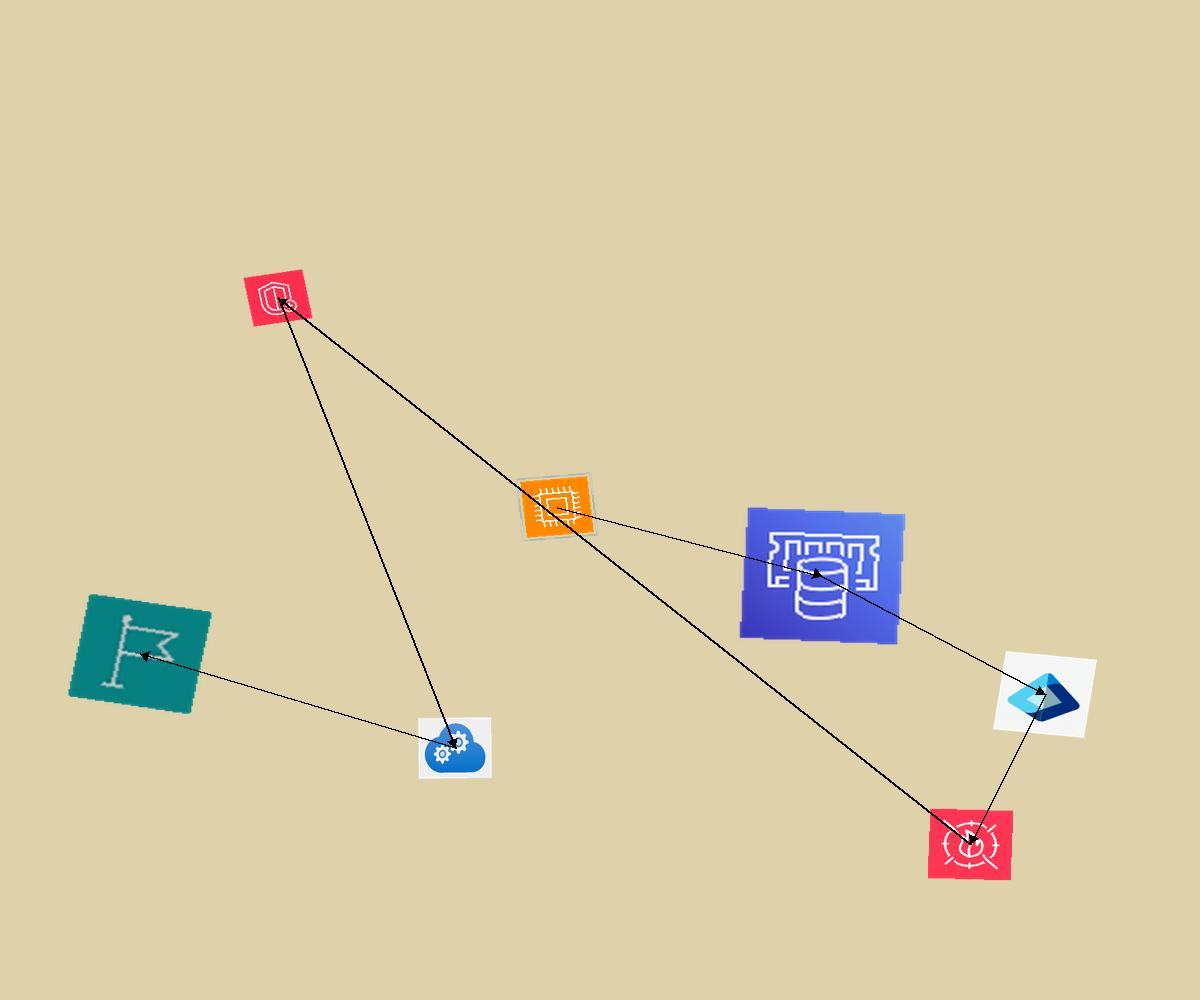AWS-Category_Compute: (515, 472, 599, 542)
AWS-ElastiCache: (738, 506, 907, 646)
AWS-Region: (67, 593, 213, 715)
AWS-Shield: (243, 269, 313, 327)
AWS-WAF: (927, 808, 1014, 881)
Azure_cloud_services: (418, 717, 492, 779)
Azure_microsoft_entra: (993, 651, 1097, 738)
